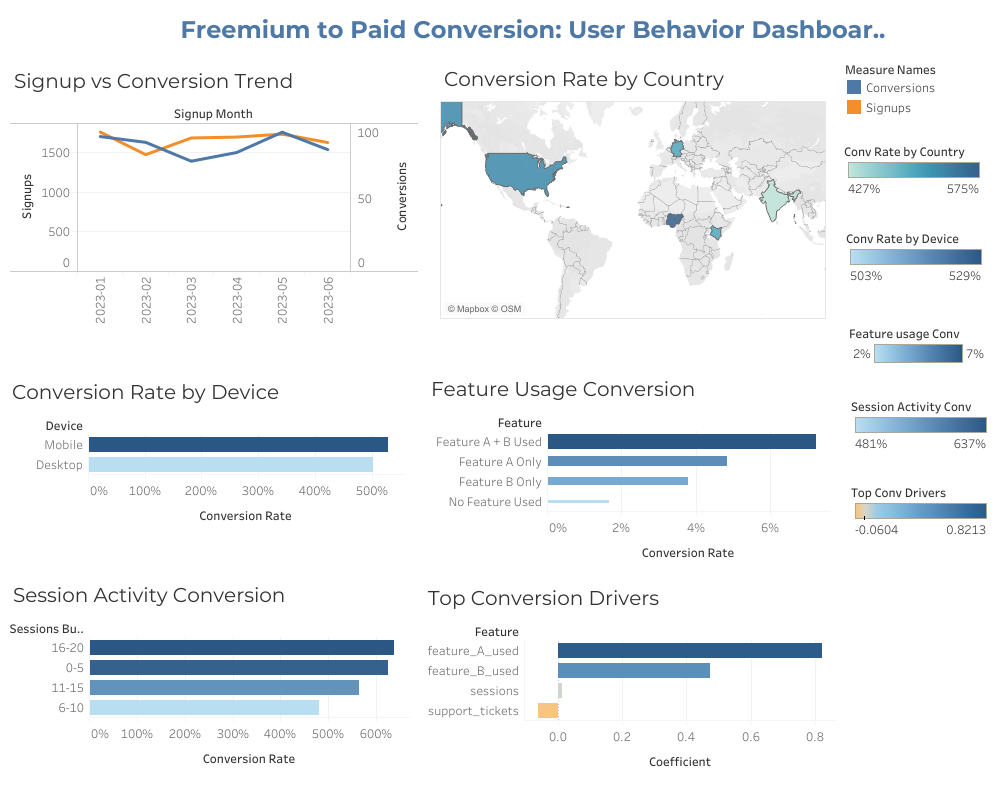

The page's visual inventory and layout, read from the dashboard file:
{"tool":"tableau","page":{"name":"Freemium to Paid Conversion: User Behavior Dashboard","canvas":[1000,800],"ordinal":0},"visuals":[{"type":"title","box":[178,10,713,39]},{"type":"legend","title":"Signup vs Conversion Trend","param":"[federated.1ejr81z1sl04fp1a5eh5213ujtm6].[:Measure Names]","box":[844,58,140,59]},{"type":"worksheet","title":"Conversion Rate by Country","mark":"Automatic","box":[440,60,386,259]},{"type":"worksheet","title":"Signup vs Conversion Trend","mark":"Automatic","rows":["signups","conversions"],"cols":["signup_month"],"box":[10,62,408,266]},{"type":"legend","title":"Conversion Rate by Country","param":"[federated.0lk01uy1f41iqe13qmgo71rey0i7].[sum:conversion_rate:qk]","box":[844,138,140,80]},{"type":"legend","title":"Conversion Rate by Device","param":"[federated.10zm4981odx7ka1gw0y3y0ue0i6f].[sum:conversion_rate:qk]","box":[846,225,140,80]},{"type":"legend","title":"Feature Usage Conversion","param":"[federated.1fybh590e4ayk711myehp16n6ln0].[sum:conversion_rate:qk]","box":[849,320,140,80]},{"type":"worksheet","title":"Feature Usage Conversion","mark":"Automatic","rows":["feature"],"cols":["conversion_rate"],"box":[427,370,402,205]},{"type":"worksheet","title":"Conversion Rate by Device","mark":"Bar","rows":["device"],"cols":["conversion_rate"],"box":[8,373,395,179]},{"type":"legend","title":"Session Activity Conversion","param":"[federated.179jvl51hib9wj198xf7s1mpsooi].[sum:conversion_rate:qk]","box":[851,393,140,80]},{"type":"legend","title":"Top Conversion Drivers","param":"[federated.03jrq841tc5pi312b0sqd1shpivq].[sum:coefficient:qk]","box":[851,479,140,80]},{"type":"worksheet","title":"Session Activity Conversion","mark":"Automatic","rows":["sessions_bucket"],"cols":["conversion_rate"],"box":[9,576,400,201]},{"type":"worksheet","title":"Top Conversion Drivers","mark":"Automatic","rows":["feature"],"cols":["coefficient"],"box":[424,579,412,209]}]}

Visuals, with their boxes in screenshot pixels (x1, y1, x2, y2), scaled from the page's 1000x800 canvas onto the 999x799 screenshot:
title: crop(178, 10, 890, 49)
"Signup vs Conversion Trend" legend: crop(843, 58, 983, 117)
"Conversion Rate by Country" worksheet: crop(440, 60, 825, 319)
"Signup vs Conversion Trend" worksheet: crop(10, 62, 418, 328)
"Conversion Rate by Country" legend: crop(843, 138, 983, 218)
"Conversion Rate by Device" legend: crop(845, 225, 985, 305)
"Feature Usage Conversion" legend: crop(848, 320, 988, 400)
"Feature Usage Conversion" worksheet: crop(427, 370, 828, 574)
"Conversion Rate by Device" worksheet (Bar marks): crop(8, 373, 403, 551)
"Session Activity Conversion" legend: crop(850, 393, 990, 472)
"Top Conversion Drivers" legend: crop(850, 478, 990, 558)
"Session Activity Conversion" worksheet: crop(9, 575, 409, 776)
"Top Conversion Drivers" worksheet: crop(424, 578, 835, 787)
